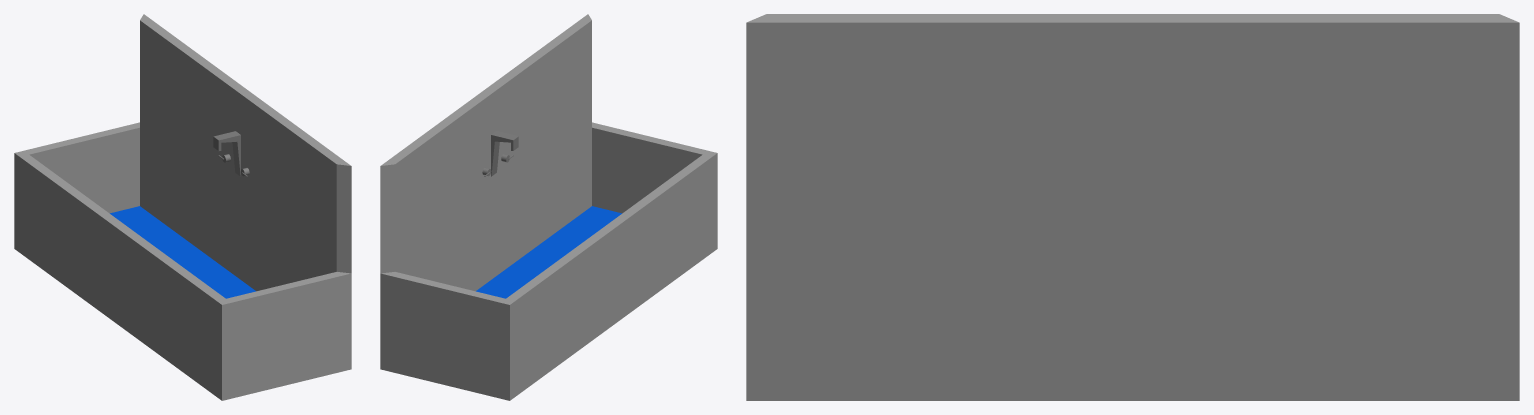
Rendered from LaundrySink.fbx.
3 views of the same model, side by side, from view 1: azimuth 30°, elevation 25°; view 2: azimuth 150°, elevation 25°; view 3: azimuth 270°, elevation 25° (orthographic). The views are drawn at different scales.
Parts seen in each view (by area): view 1: Cube; view 2: Cube; view 3: Cube.
Boxes of the visible parts, box(x1,y1,x2,y2) form: Cube: box(14, 14, 351, 400); Cube: box(380, 14, 717, 400); Cube: box(746, 14, 1519, 400).
Bounding box in the file's own units: 328 × 493 × 913.
